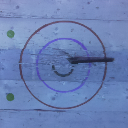Axe Tip: (68, 58, 77, 60)
